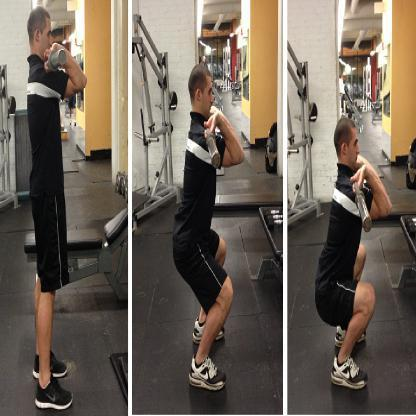Barbell: (351, 185, 378, 241), (203, 130, 227, 175), (47, 44, 71, 76)
